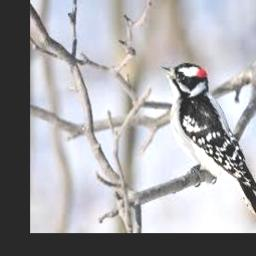Woodpecker: (159, 63, 256, 222)
